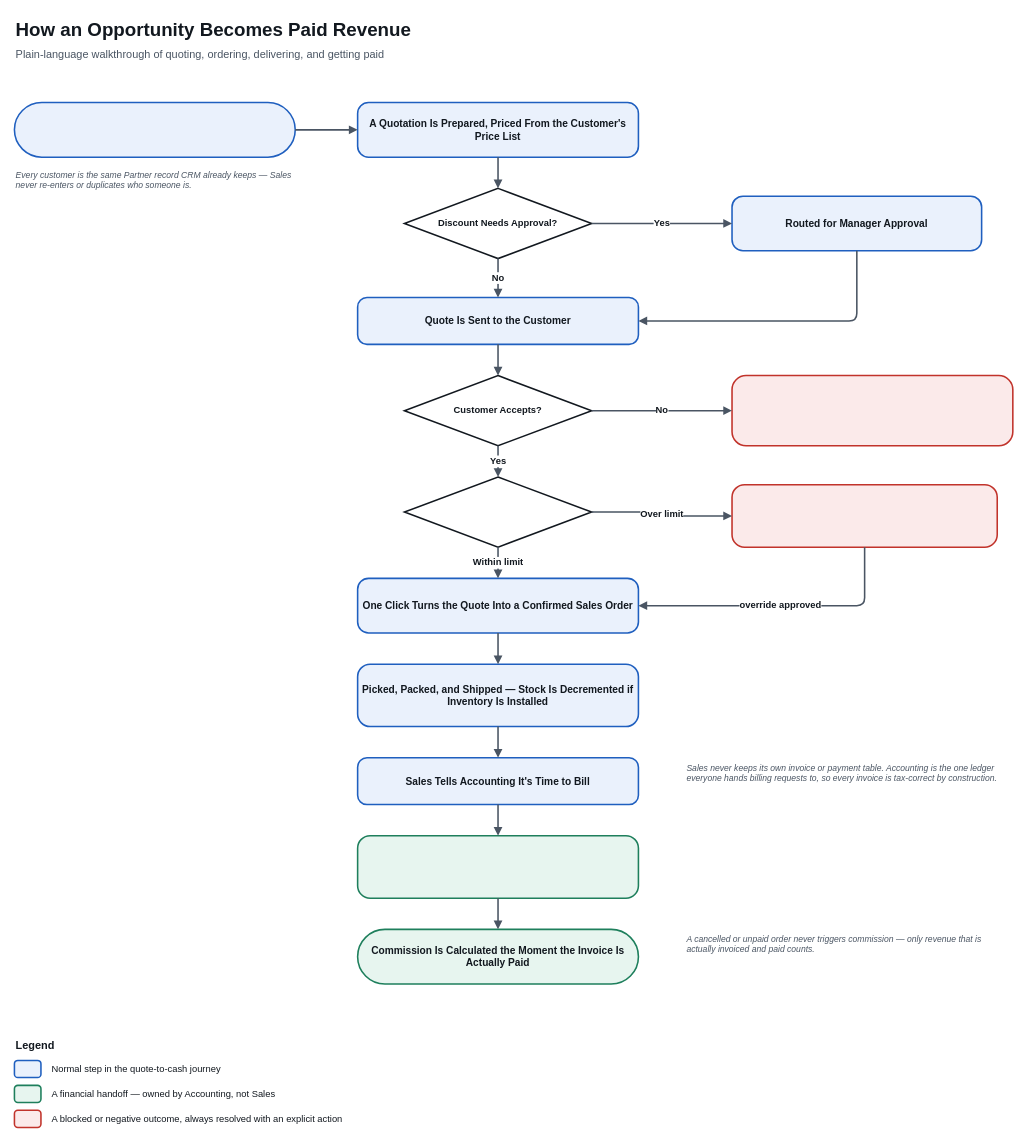
Image size: 1026x1143. Some labels were removed from this diagram. The shapes that lost their labels are listed below. From the top down, each one's centre as x and y in pixels, then its label:
At pixel 154 129: "A Prospect Becomes a Real Opportunity to Sell Something".
At pixel 872 410: "Marked Declined or Left to Expire — Can Be Cloned Into a Fresh Quote Later".
At pixel 497 512: "Within Their Credit Limit?".
At pixel 864 516: "Order Is Blocked Until an Override Is Approved".
At pixel 497 867: "Accounting Creates the Invoice, Handles Tax, and Records the Payment".
